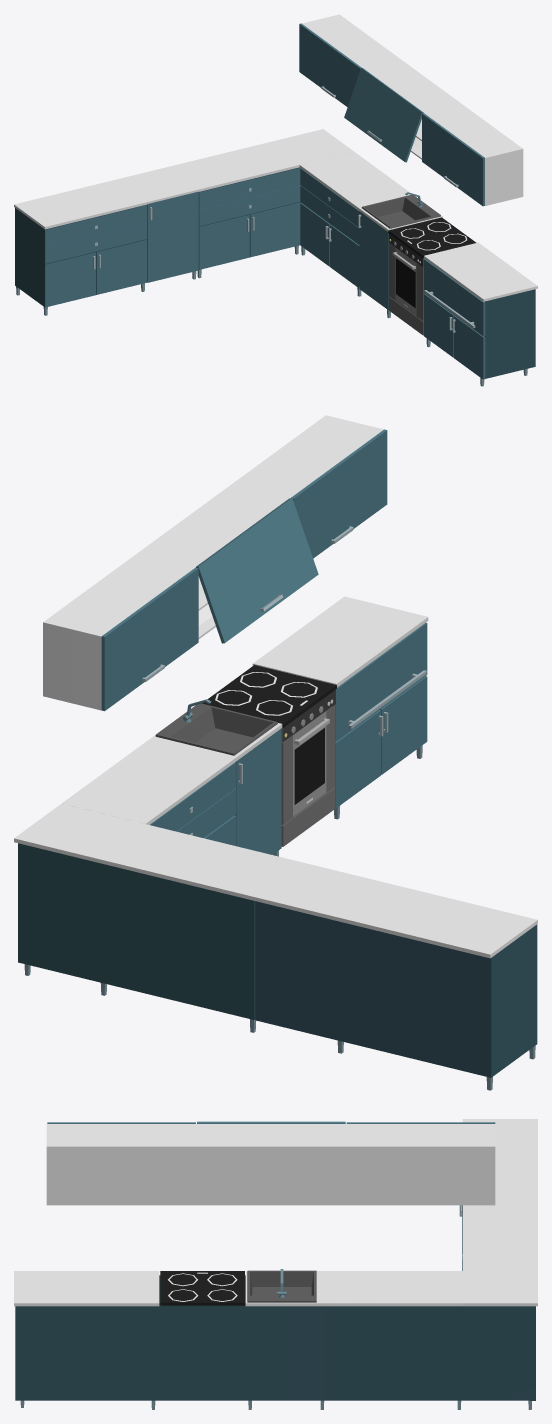
Rendered from kitchen_item_032.glb.
The picture shows the model from 3 angles, top to bottom: view 1: azimuth 30°, elevation 25°; view 2: azimuth 150°, elevation 25°; view 3: azimuth 270°, elevation 25°; orthographic projection. The views are drawn at different scales.
Visible parts, largest first — view 1: kitchen_item_032; view 2: kitchen_item_032; view 3: kitchen_item_032.
Boxes of the visible parts, bbox=[...] form: kitchen_item_032: bbox=[14, 14, 537, 386]; kitchen_item_032: bbox=[14, 415, 537, 1090]; kitchen_item_032: bbox=[14, 1119, 537, 1409].
Bounding box in the file's own units: 3.19 × 2.15 × 3.84.
1 material, 1 textured.
